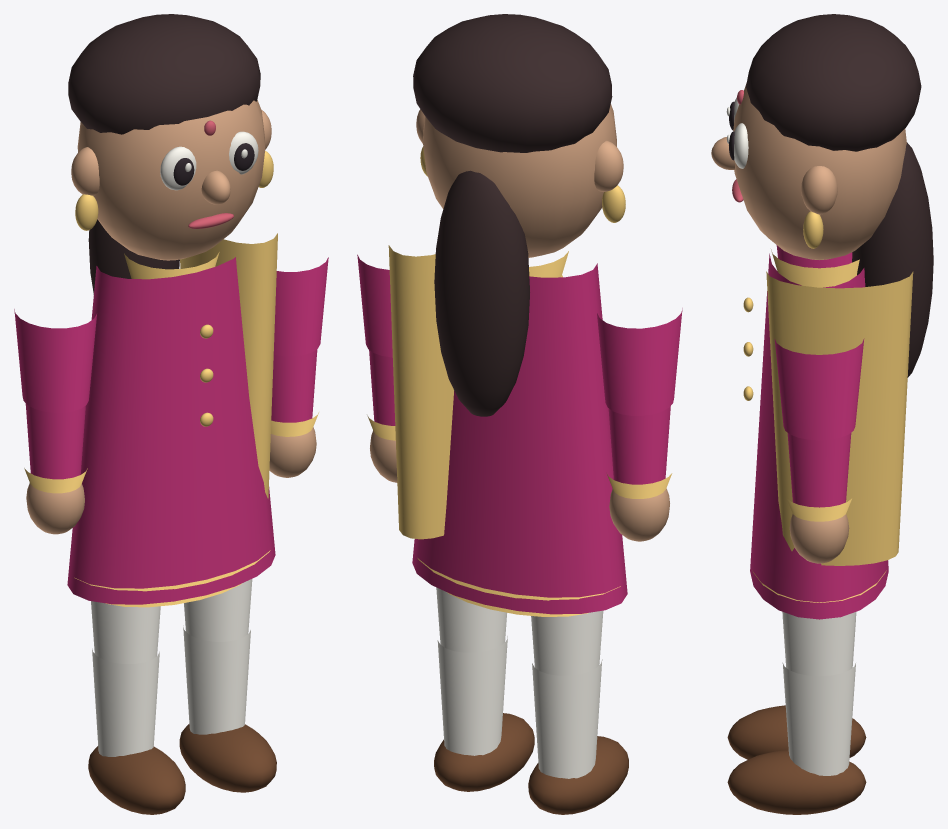
File: rose-lehenga.glb
3 renders of one model, left to right at view 1: azimuth 30°, elevation 25°; view 2: azimuth 150°, elevation 25°; view 3: azimuth 270°, elevation 25°, orthographic. The views are drawn at different scales.
Visible parts, largest first — view 1: Lehenga, Hair, Head, Shin (×2), Sleeve (×2), Jutti (×2), Dupatta, Thigh (×2), Forearm (×2), Hand (×2), Braid, Cuff (×2) (+6 smaller); view 2: Lehenga, Hair, Braid, Dupatta, Shin (×2), Head, Sleeve (×2), Jutti (×2), Thigh (×2), Forearm (×2), Hand (×2), Ear (+3 smaller); view 3: Dupatta, Hair, Head, Lehenga, Jutti (×2), Braid, Sleeve (×2), Shin, Thigh, Forearm, Hand, Collar (+5 smaller).
Boxes of the visible parts, left/top/right/bottom form: Lehenga: left=67, top=257, right=275, bottom=604; Hair: left=68, top=14, right=260, bottom=134; Head: left=77, top=100, right=265, bottom=260; Shin (×2): left=92, top=625, right=250, bottom=756; Sleeve (×2): left=14, top=257, right=328, bottom=412; Jutti (×2): left=88, top=724, right=276, bottom=814; Dupatta: left=180, top=233, right=277, bottom=498; Thigh (×2): left=91, top=579, right=252, bottom=663; Forearm (×2): left=25, top=349, right=317, bottom=479; Hand (×2): left=26, top=427, right=316, bottom=534; Braid: left=88, top=219, right=179, bottom=294; Cuff (×2): left=24, top=412, right=318, bottom=493; Lehenga: left=412, top=263, right=627, bottom=614; Hair: left=413, top=14, right=612, bottom=152; Braid: left=434, top=170, right=529, bottom=416; Dupatta: left=388, top=245, right=453, bottom=539; Shin (×2): left=437, top=636, right=602, bottom=778; Head: left=423, top=104, right=616, bottom=257; Sleeve (×2): left=357, top=254, right=682, bottom=415; Jutti (×2): left=434, top=713, right=628, bottom=814; Thigh (×2): left=436, top=587, right=603, bottom=675; Forearm (×2): left=369, top=350, right=670, bottom=484; Hand (×2): left=370, top=430, right=669, bottom=541; Ear: left=594, top=140, right=623, bottom=191; Dupatta: left=766, top=271, right=913, bottom=565; Hair: left=746, top=14, right=921, bottom=151; Head: left=733, top=83, right=906, bottom=259; Lehenga: left=750, top=253, right=888, bottom=619; Jutti (×2): left=727, top=705, right=866, bottom=814; Braid: left=852, top=142, right=933, bottom=377; Sleeve (×2): left=774, top=245, right=864, bottom=440; Shin: left=782, top=662, right=855, bottom=775; Thigh: left=782, top=611, right=856, bottom=676; Forearm: left=787, top=433, right=851, bottom=507; Hand: left=789, top=514, right=849, bottom=563; Collar: left=771, top=249, right=859, bottom=287.
Bounding box in the file's own units: 0.86 × 2.05 × 0.545.
